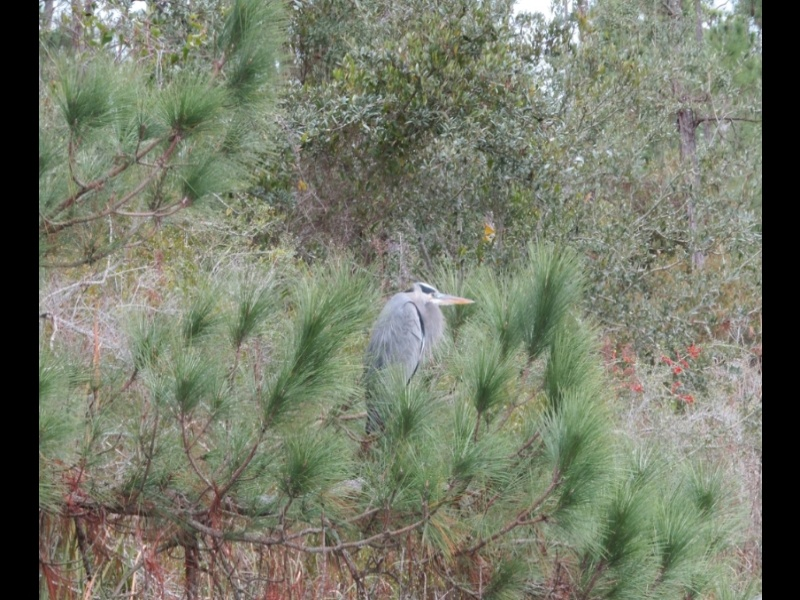heron: (360, 279, 476, 458)
